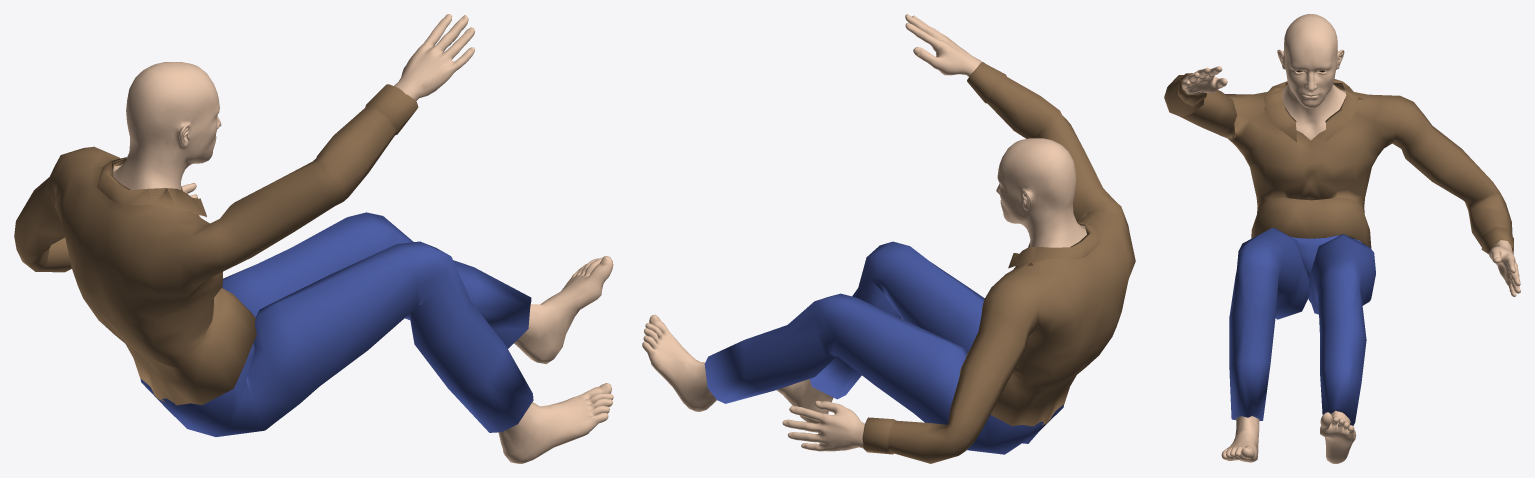
File: float_orange.dae
3 renders of one model, left to right at view 1: azimuth 30°, elevation 25°; view 2: azimuth 150°, elevation 25°; view 3: azimuth 270°, elevation 25°, orthographic. The views are drawn at different scales.
Visible parts, largest first — view 1: human; view 2: human; view 3: human.
Boxes of the visible parts, <box> form: human: <box>14,14,613,463</box>; human: <box>642,14,1135,463</box>; human: <box>1164,14,1520,463</box>.
Bounding box in the file's own units: 1.21 × 0.9467 × 1.07.
